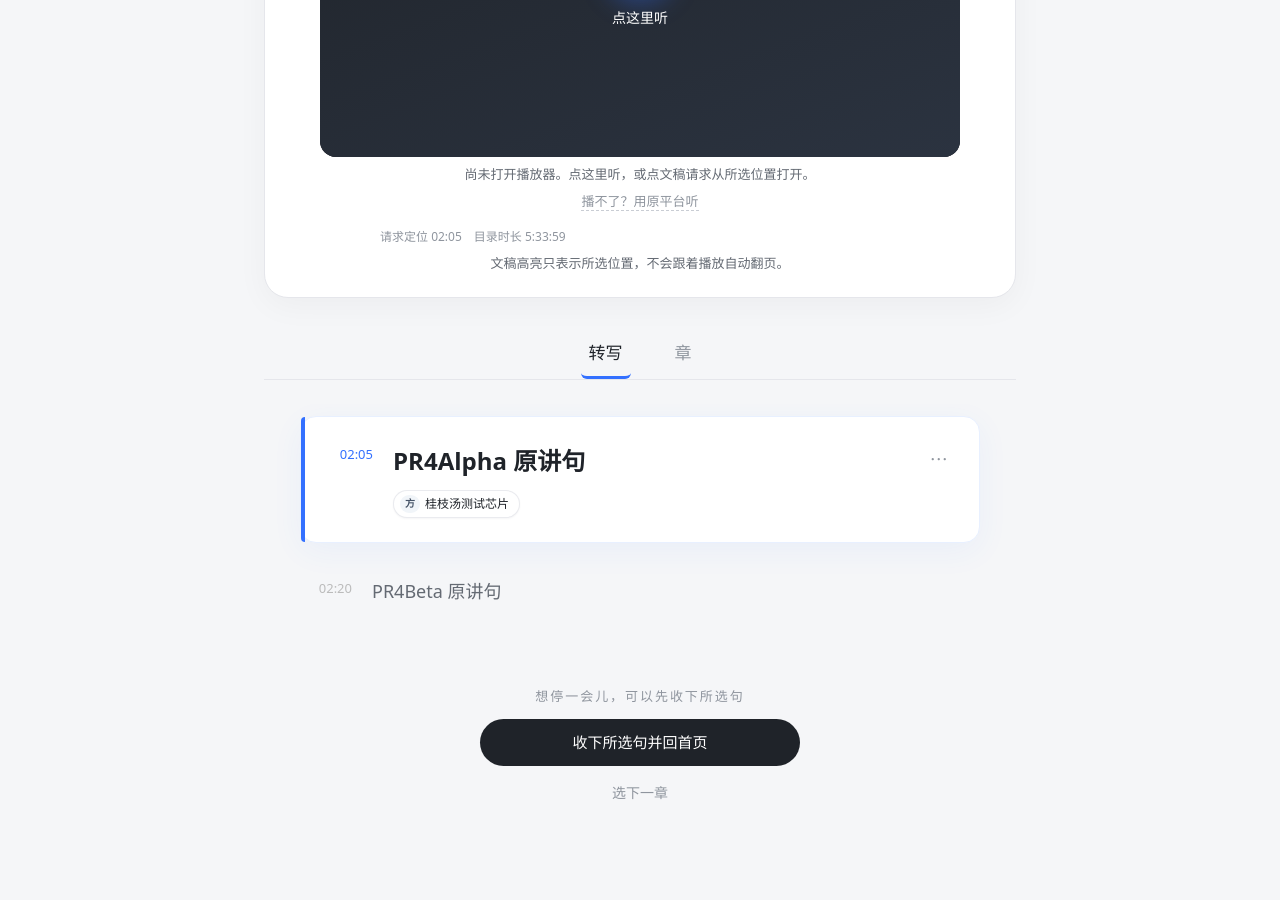
Test: WatchPage derives deduplicated chips and nearby claim options from loaded rows; selecting evidence is not human review
This screenshot has width=1280, height=900.
(page scrolled)
Check: the number of list items with class "entity-chip" is 1, box [393,490,520,518]
Click the button "02:05 PR4Alpha 原讲句 ⋯ 方 桂枝汤测试芯片": [356, 454] box [300,416,980,543]
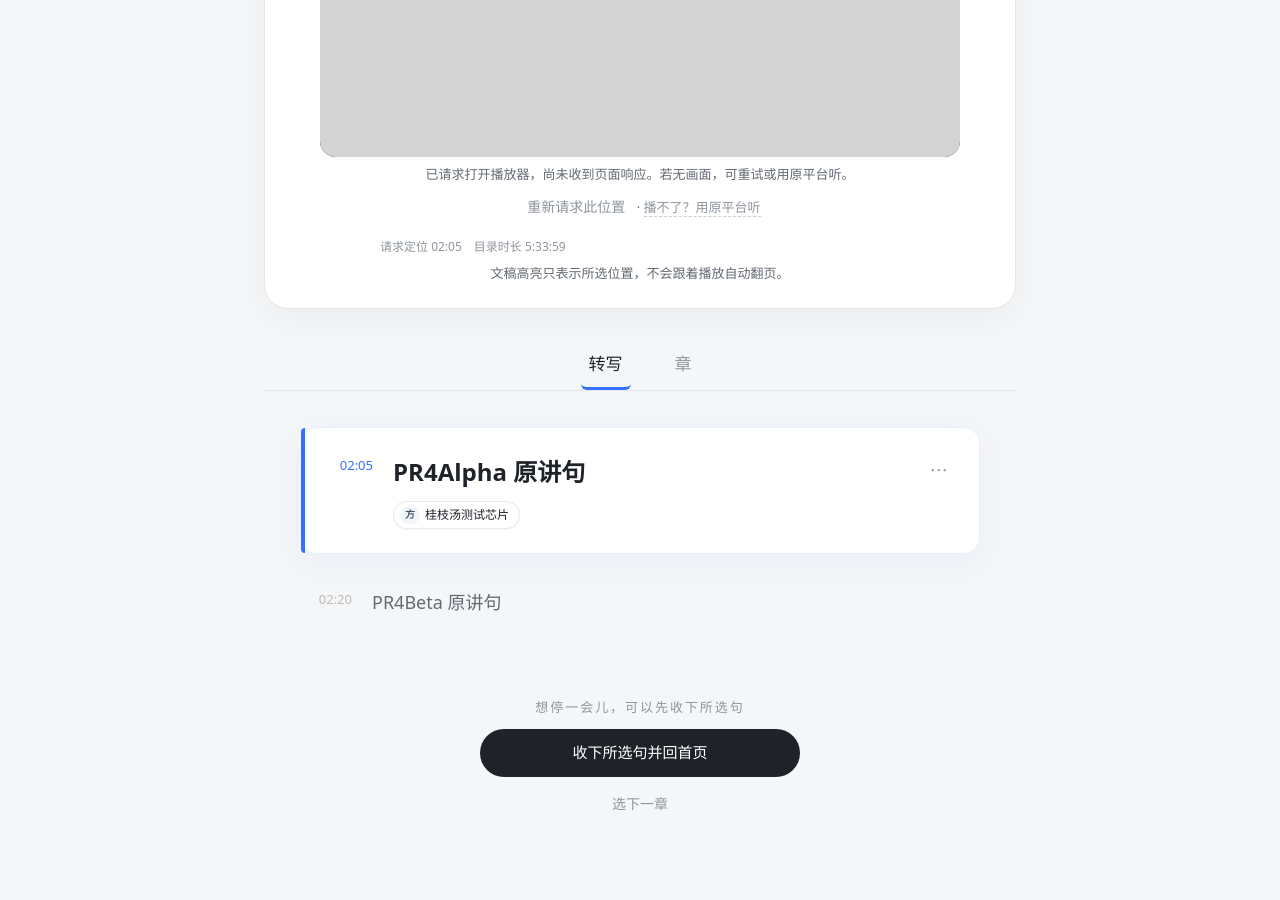
Click the button named "这句还能做什么": [939, 470] box [923,454,955,486]
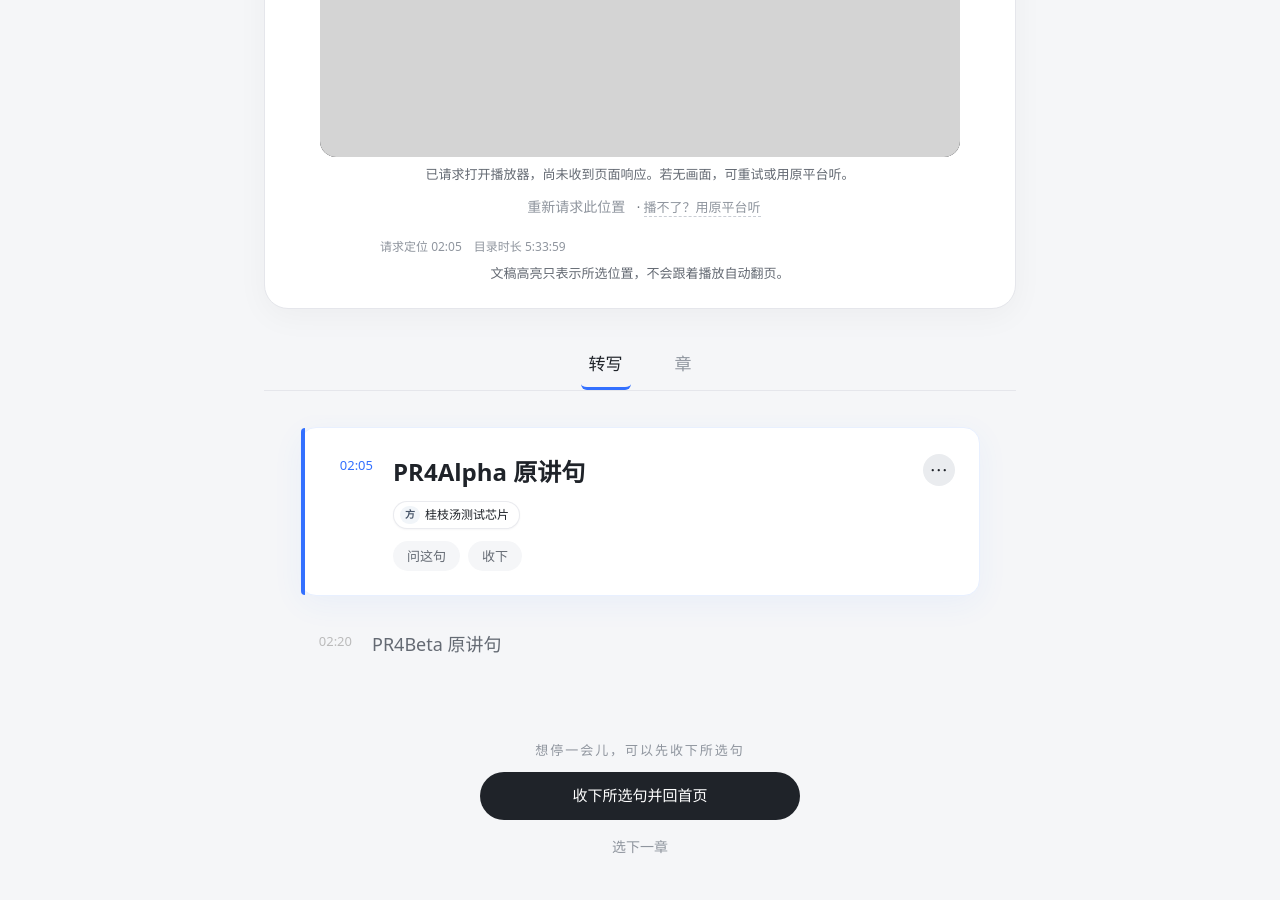
Click the button "问这句": [426, 556] box [393,541,460,572]
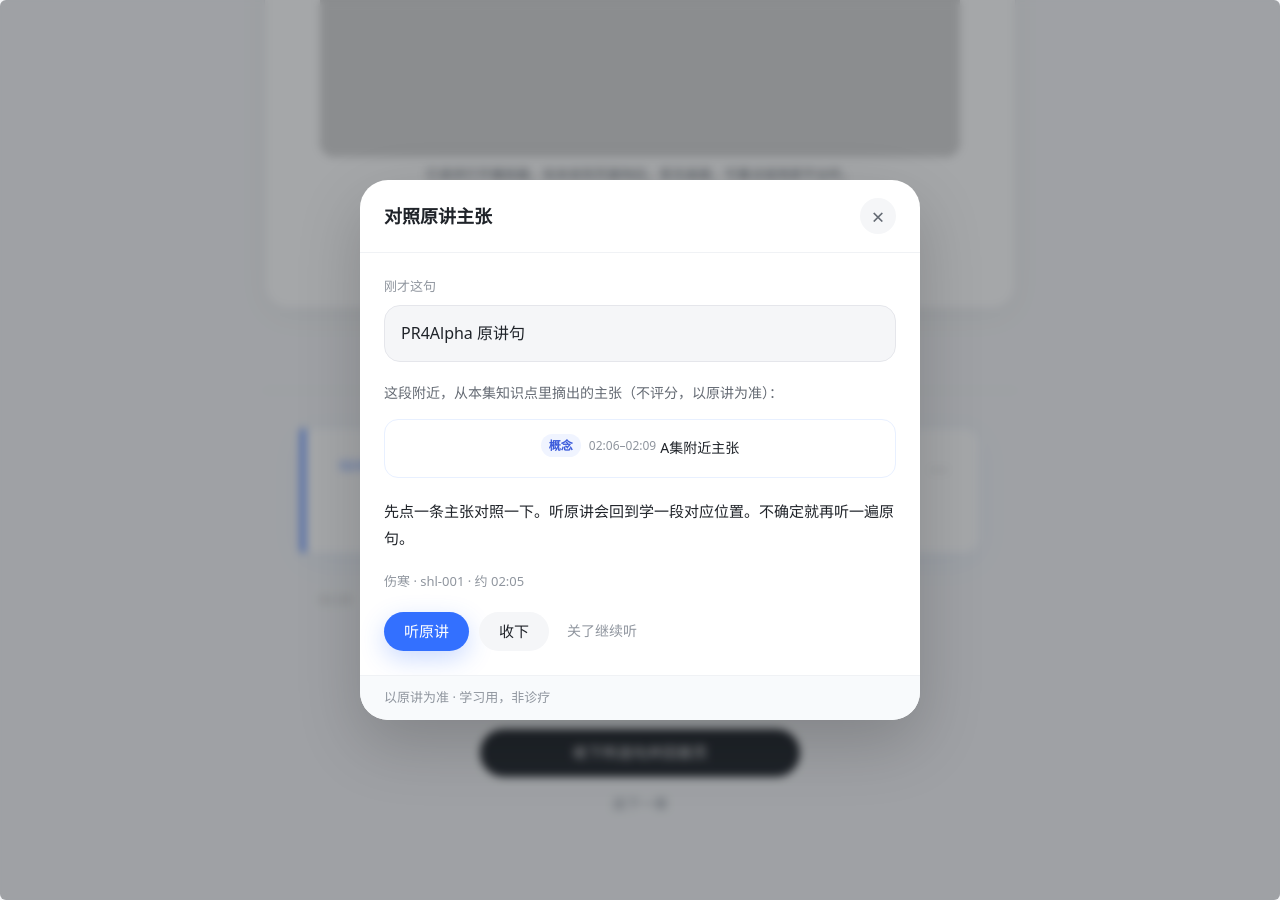
Check: the text "A集附近主张" is shown, box [660,437,739,460]
Click the list item: [640, 449] box [384,419,896,478]
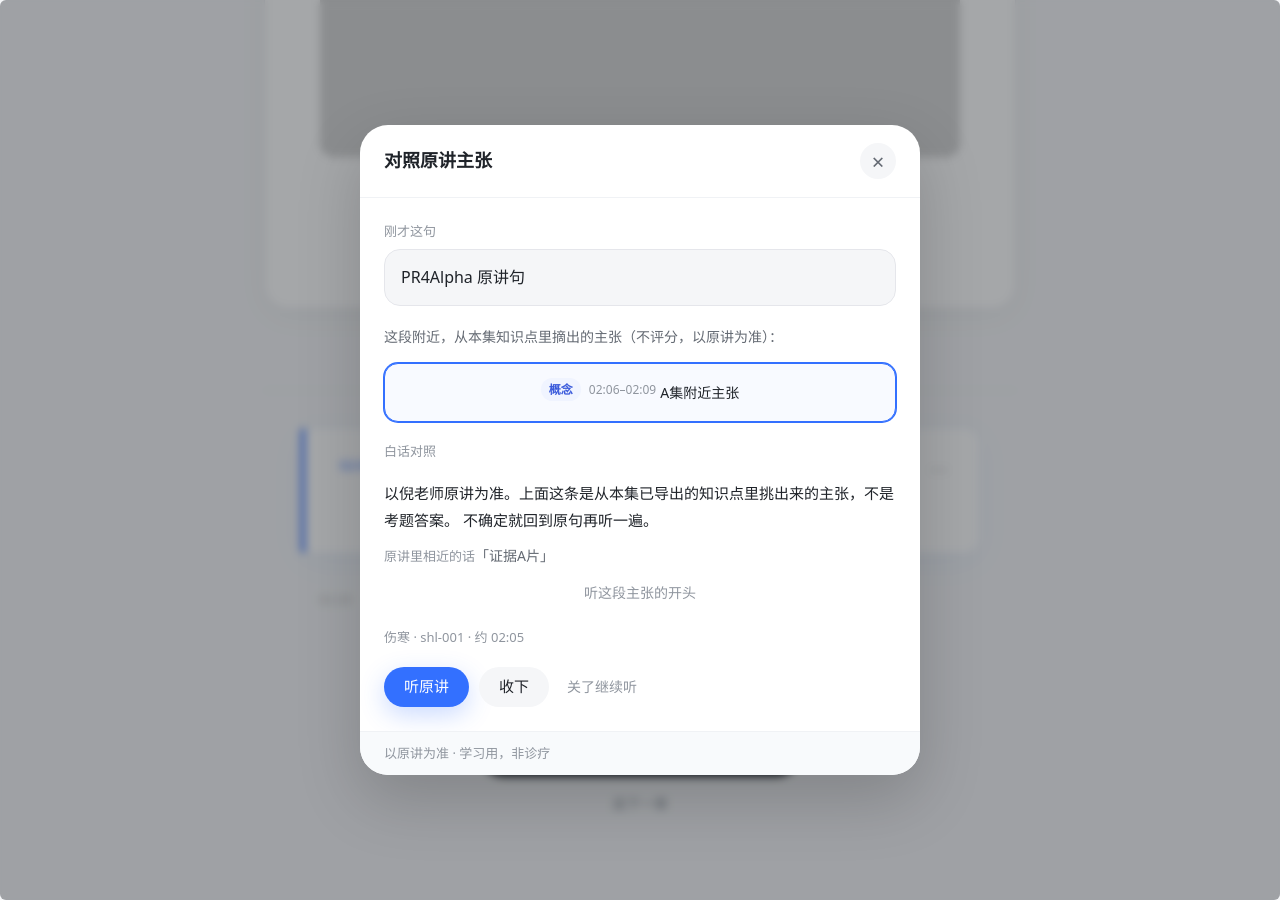
Check: the text "「证据A片」" is shown, box [384,546,554,565]
Click the button "听这段主张的开头": [640, 593] box [384,578,896,608]
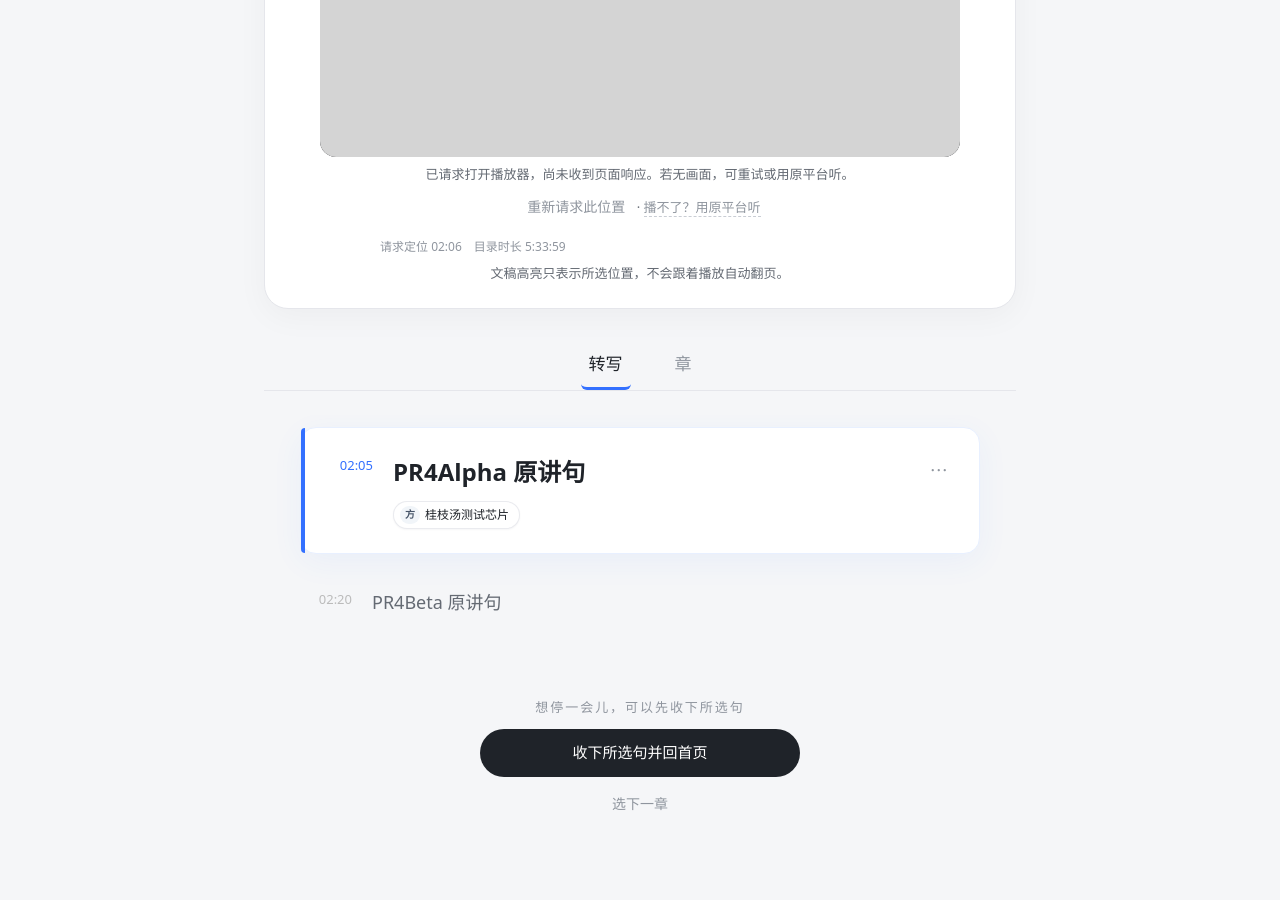
Check: the dialog is gone
